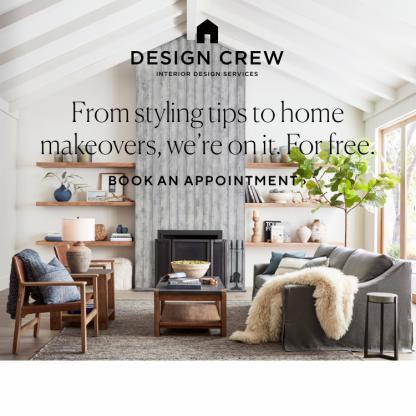chair: (12, 247, 100, 355), (38, 235, 119, 324), (364, 292, 400, 360)
light: (63, 218, 100, 274)
sofa: (244, 235, 416, 349)
table: (151, 272, 234, 340)
